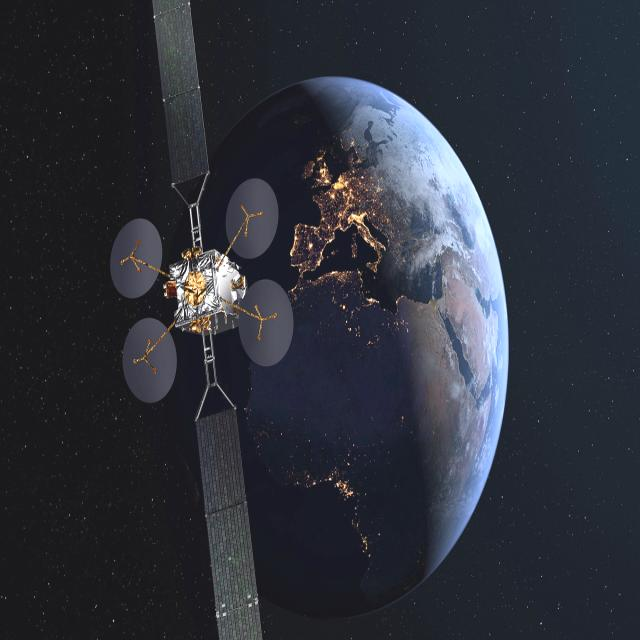medium_debris: (100, 10, 305, 640)
